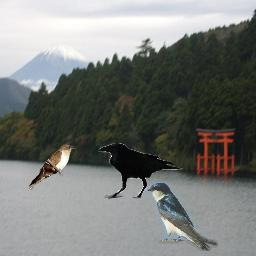Crow: (98, 143, 183, 199)
Cuckoo: (29, 144, 77, 190)
Swallow: (147, 182, 218, 251)
